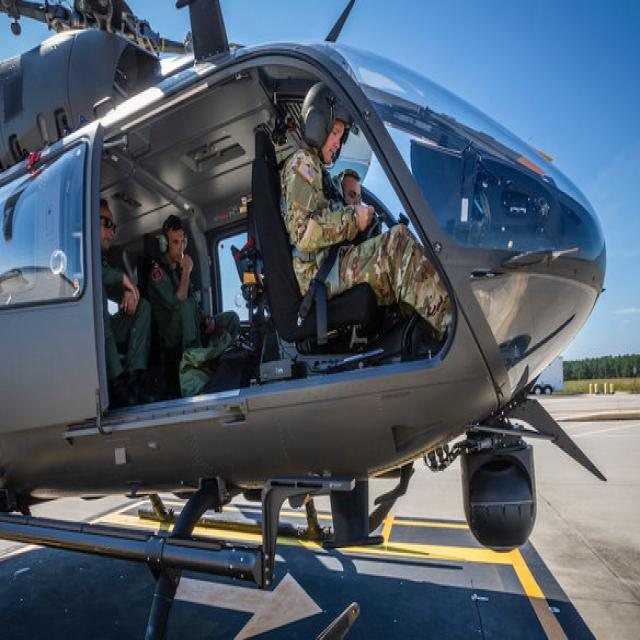helicopter: (1, 1, 618, 640)
